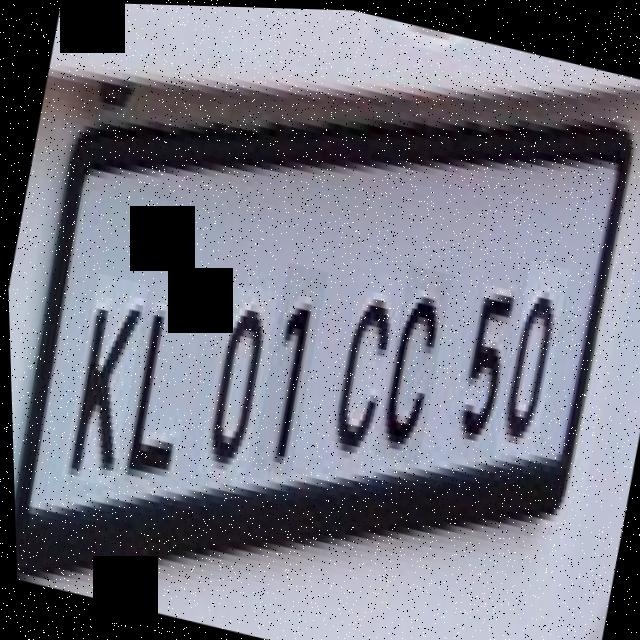0: (189, 279, 281, 482), (488, 256, 571, 458)
1: (243, 260, 331, 476)
5: (440, 254, 529, 461)
C: (367, 261, 456, 464), (320, 270, 404, 466)
K: (54, 272, 153, 488)
L: (110, 277, 210, 494)
